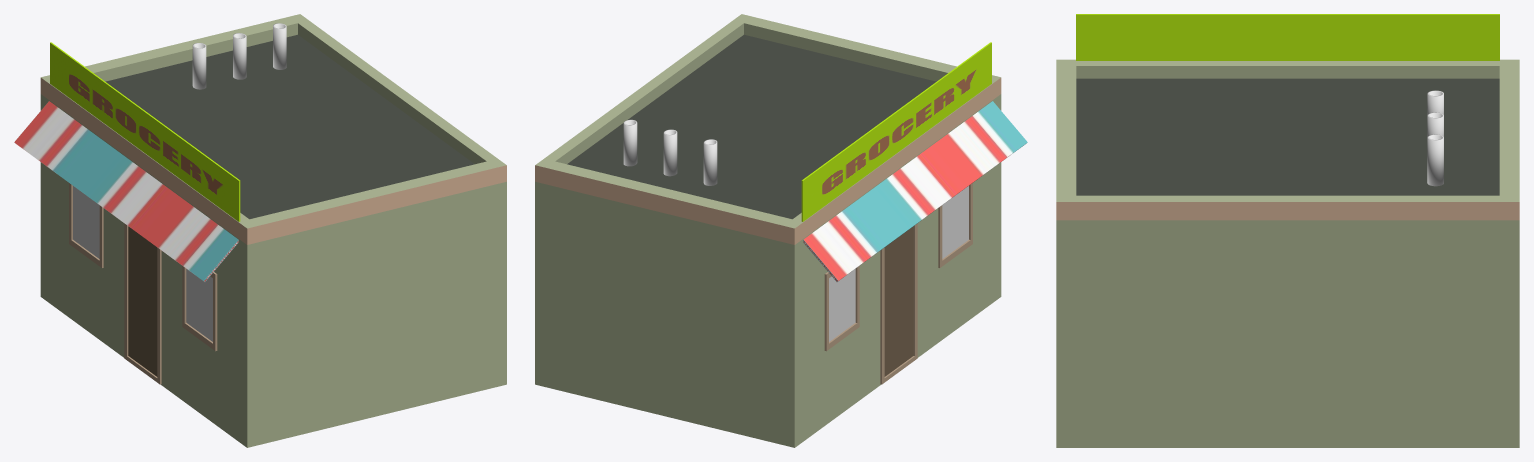
File: haz03.fbx
3 renders of one model, left to right at view 1: azimuth 30°, elevation 25°; view 2: azimuth 150°, elevation 25°; view 3: azimuth 270°, elevation 25°, orthographic. The views are drawn at different scales.
Visible parts, largest first — view 1: Cube; view 2: Cube; view 3: Cube.
Boxes of the visible parts, box(x1,y1,x2,y2) form: Cube: box(14, 14, 506, 447); Cube: box(535, 14, 1027, 447); Cube: box(1056, 14, 1519, 447).
Size of the model in its own units: 611 by 516 by 742.
Materials: 10 (2 with a texture image).
